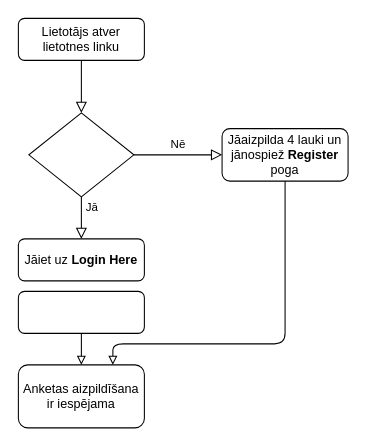
The diagram is 366 pixels wide and 446 high, and some of its shapes have lost their labels. The centre of each missing label's shape, as x and y in pixels:
Jāaizpilda 2 lauki un jānospiež Login: [80,311]
Vai lietotājs ir reģistrēts?: [81,154]
